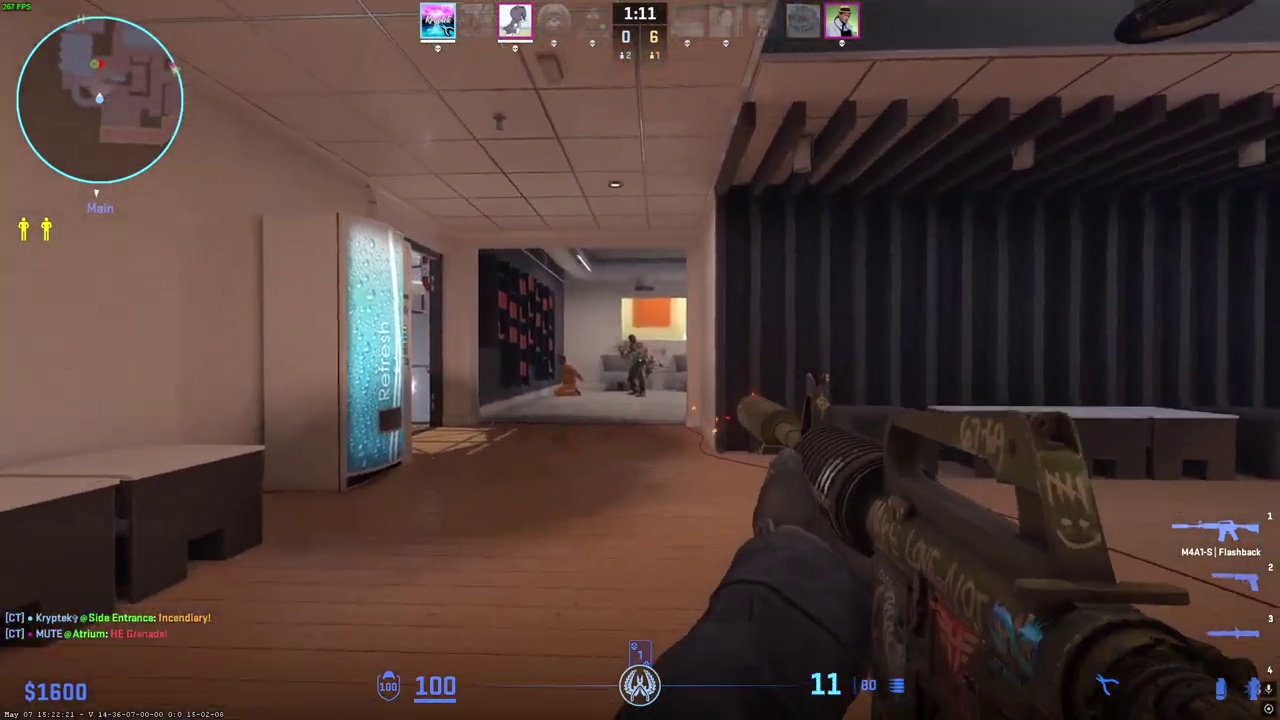Terrorist: (623, 334, 648, 397)
